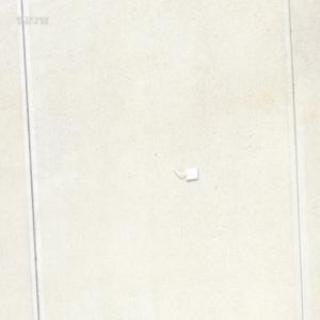LuggageTagtrack_idkeyframe: (171, 163, 198, 181)
